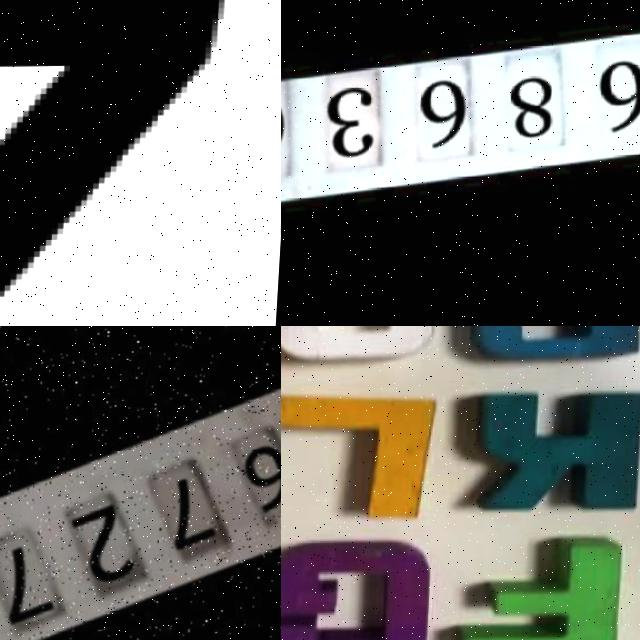2: (61, 485, 161, 604)
3: (322, 76, 392, 167)
6: (414, 66, 486, 163), (231, 424, 281, 529), (592, 45, 640, 145), (281, 86, 304, 177)
7: (148, 457, 239, 565), (0, 525, 76, 639)
8: (506, 63, 573, 154)
F: (459, 532, 631, 640)
G: (281, 540, 431, 640)
K: (474, 392, 640, 514)
L: (281, 390, 446, 517)
P: (467, 326, 640, 359)
Q: (281, 326, 436, 359)
Z: (0, 0, 245, 326)
